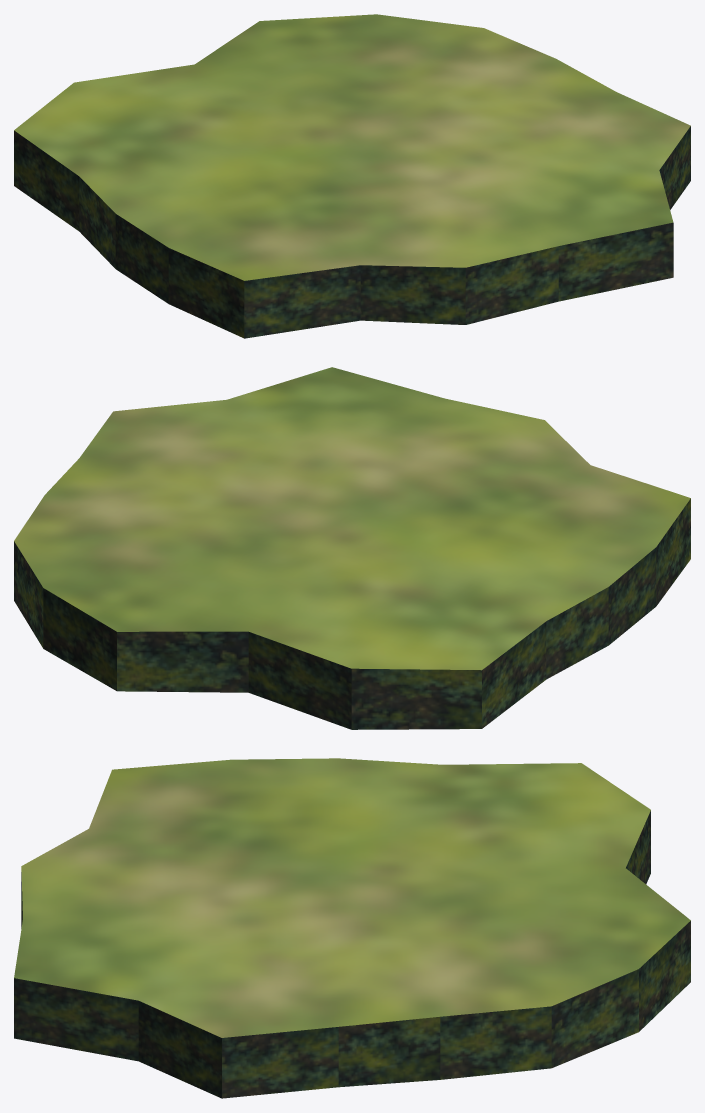
The model's file is Ground_Meadow_B.glb.
The picture shows the model from 3 angles, top to bottom: view 1: azimuth 30°, elevation 25°; view 2: azimuth 150°, elevation 25°; view 3: azimuth 270°, elevation 25°; orthographic projection. The views are drawn at different scales.
Visible parts, largest first — view 1: Ground_Meadow_B; view 2: Ground_Meadow_B; view 3: Ground_Meadow_B.
Part boxes in pixels (box(x1,y1,x2,y2)): Ground_Meadow_B: box(14, 14, 690, 338); Ground_Meadow_B: box(14, 367, 690, 729); Ground_Meadow_B: box(14, 758, 690, 1098).
Bounding box in the file's own units: 5.88 × 0.69 × 6.02.
1 material, 1 textured.
